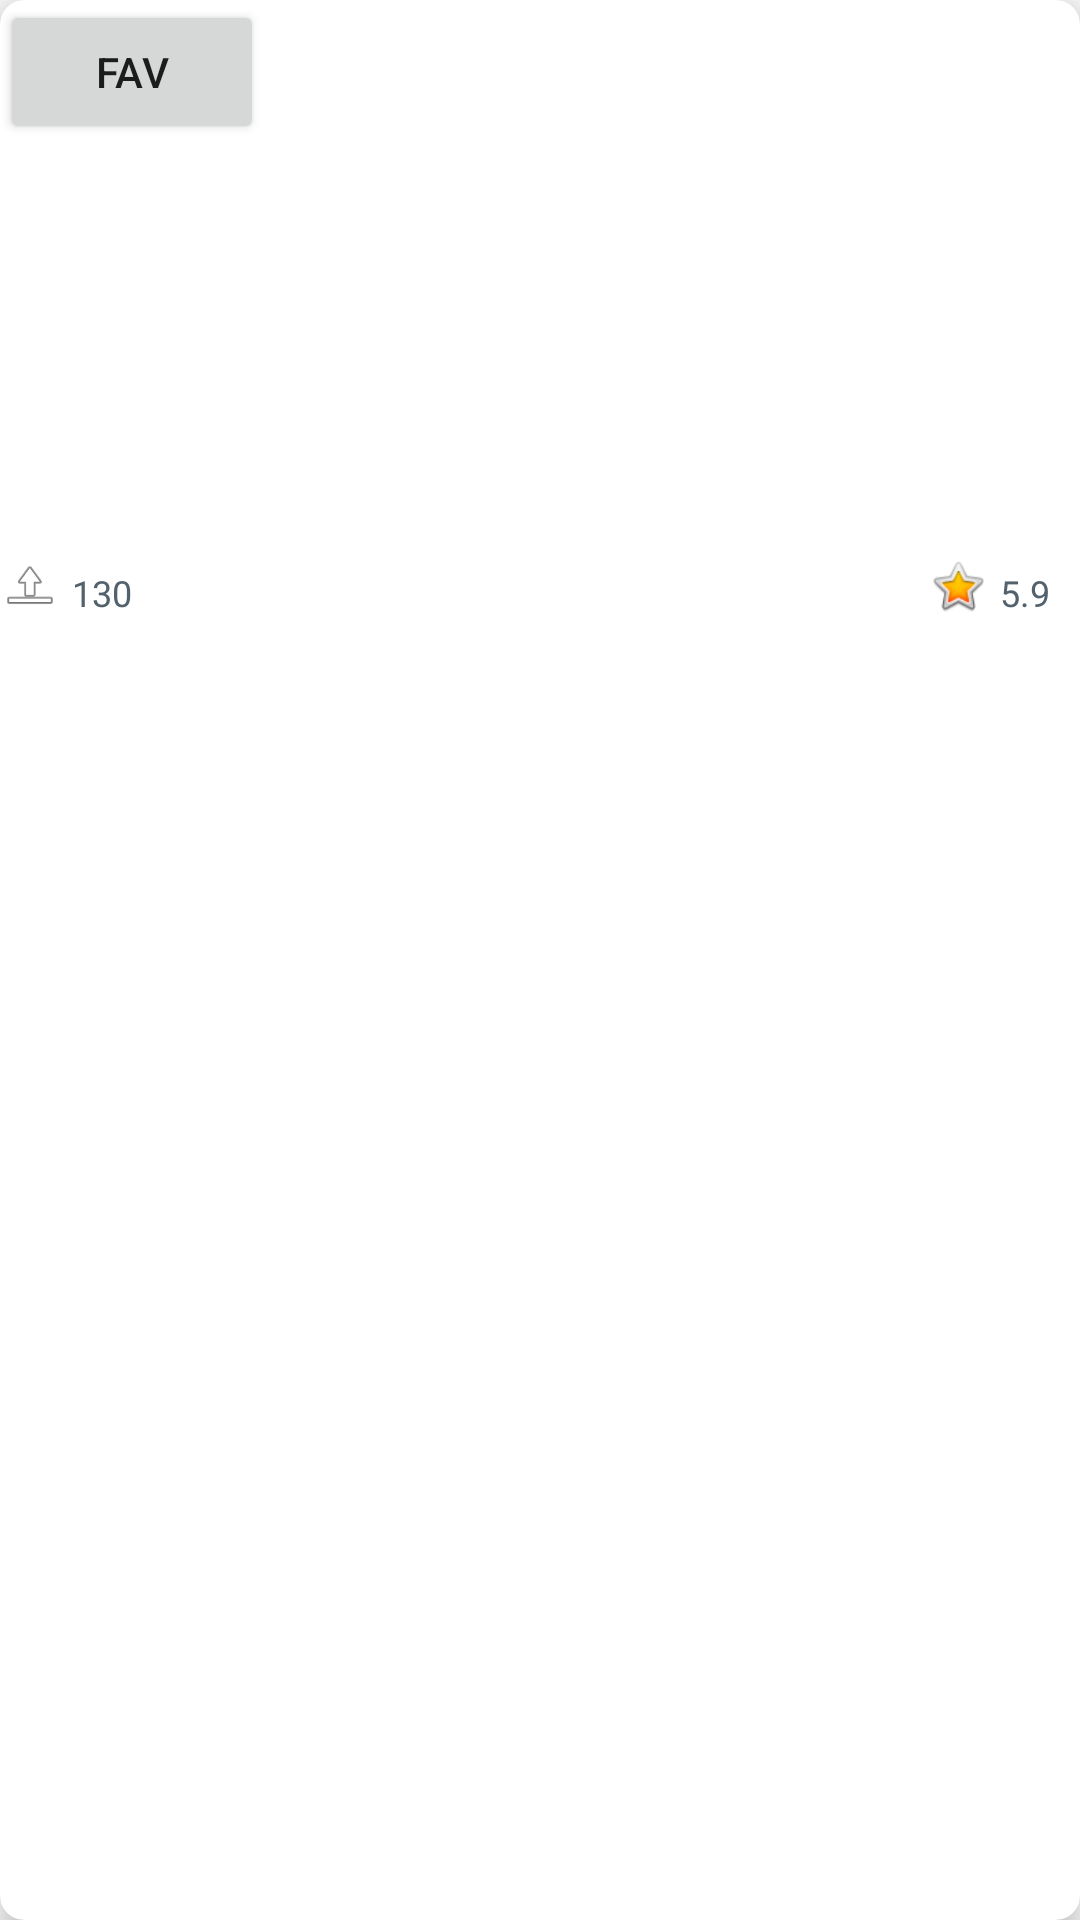

Point at icon controls on the screen. Image size 1080w x 1920h, points as (x=x, y=y).
star on: (x=958, y=586)
